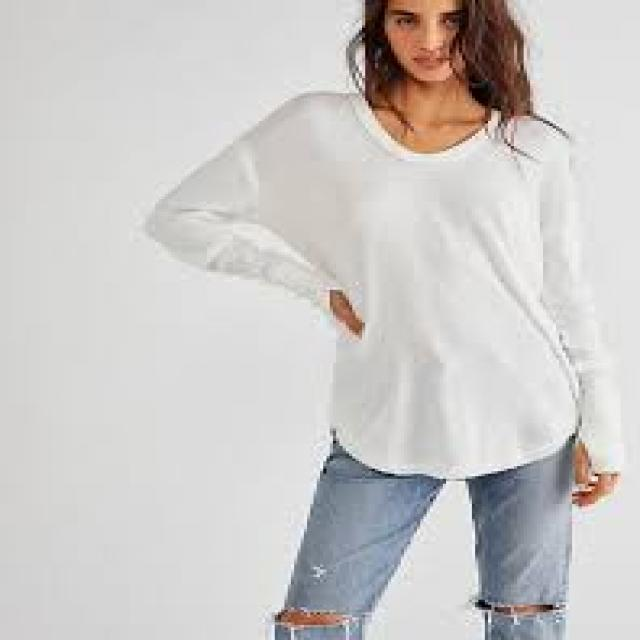plain: (115, 97, 640, 488)
